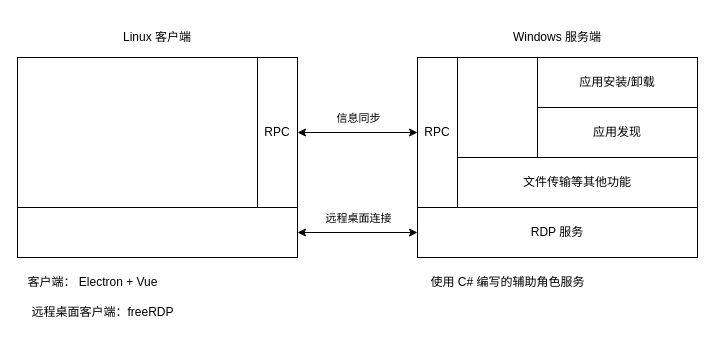
Some shapes in this 715 by 344 pixel diagram are drawn without their labels. Each missing label, with the box of its shape:
freeRDP: (16, 206, 298, 258)
应用管理: (456, 56, 538, 158)
用户界面: (16, 56, 258, 208)
